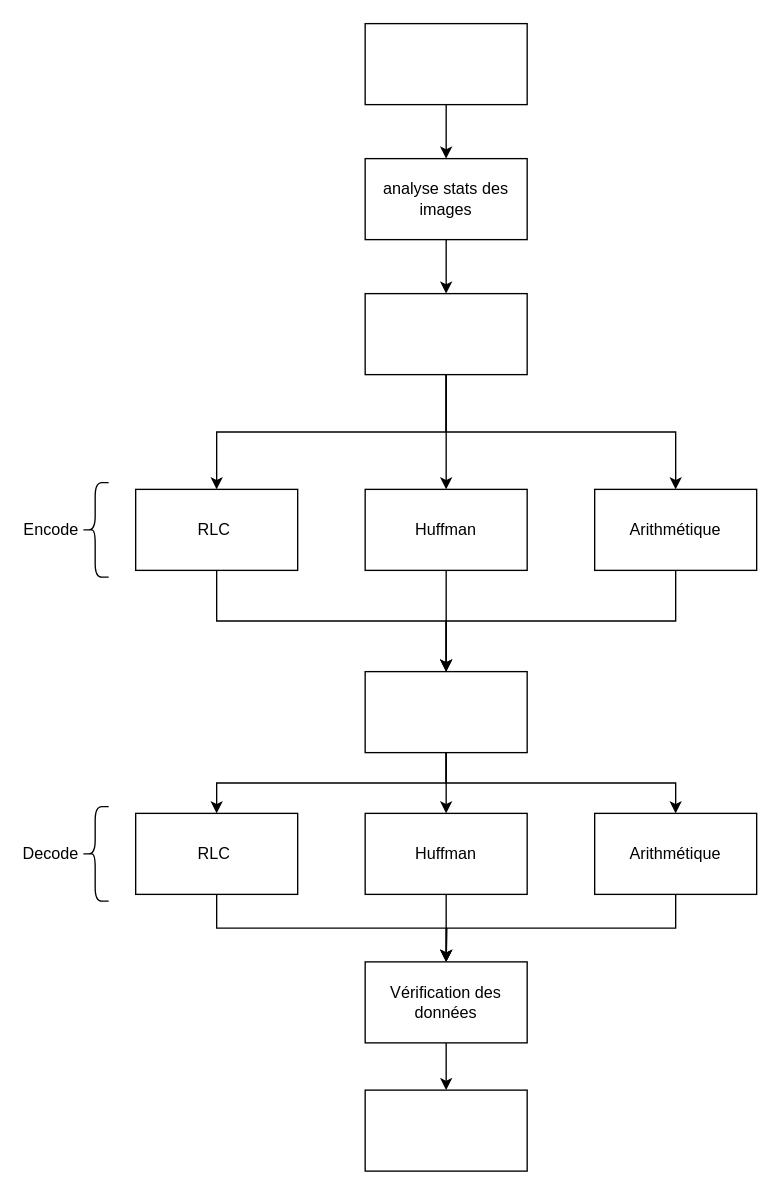
Image size: 780x1195. Some labels were removed from this diagram. Here are the shapes that lost their labels. From the top down, the box of each, then its label:
(364, 22, 527, 105): lecture fichier
(364, 292, 527, 375): calcul d'entropie
(364, 670, 527, 753): Enregistrement dans un fichier
(364, 1089, 527, 1171): Analyse stats des encodeurs
